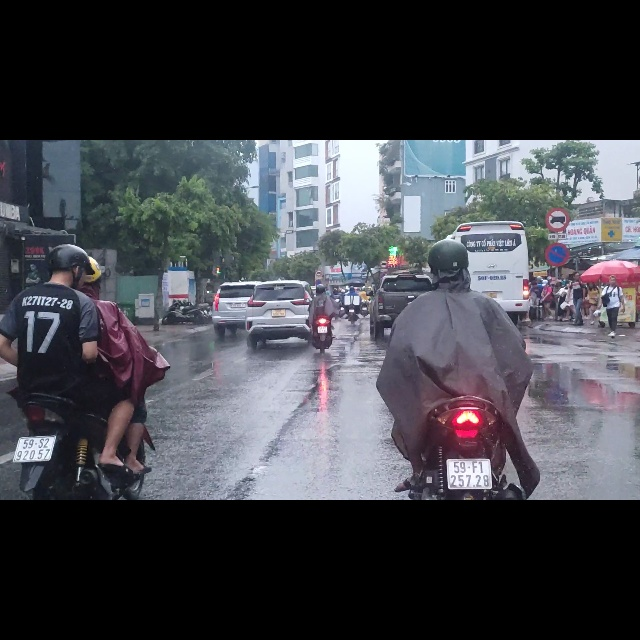bien_cam: (545, 179, 569, 225), (546, 120, 570, 164), (379, 212, 388, 228), (316, 231, 323, 242)
